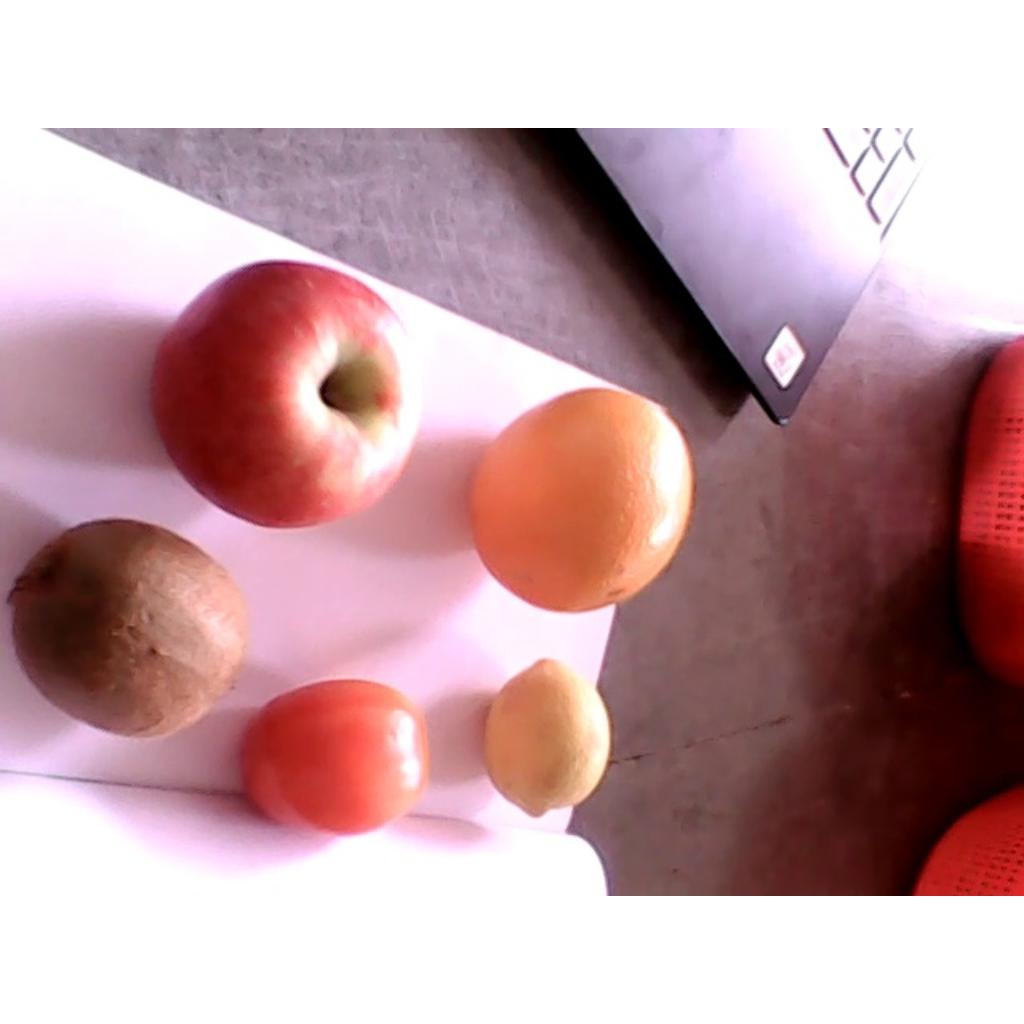apple: (150, 261, 427, 527)
kiwi: (7, 522, 247, 738)
lemon: (482, 661, 610, 817)
orange: (465, 390, 694, 613)
tomato: (238, 682, 431, 832)
